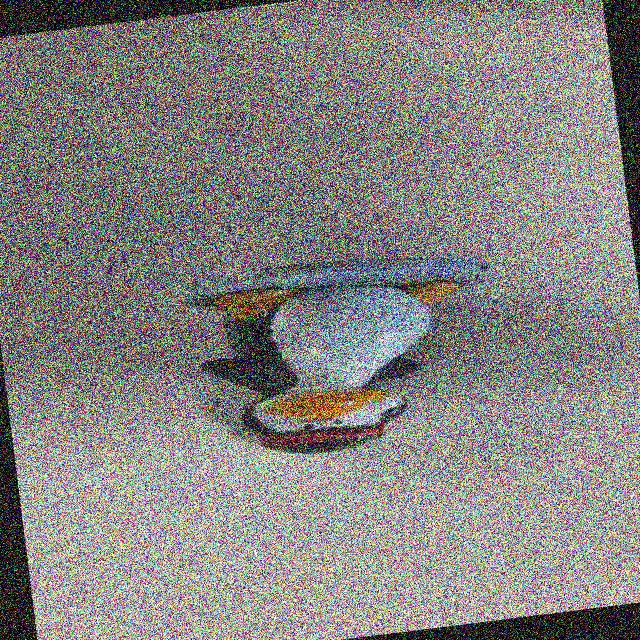Penguin: (169, 234, 517, 474)
